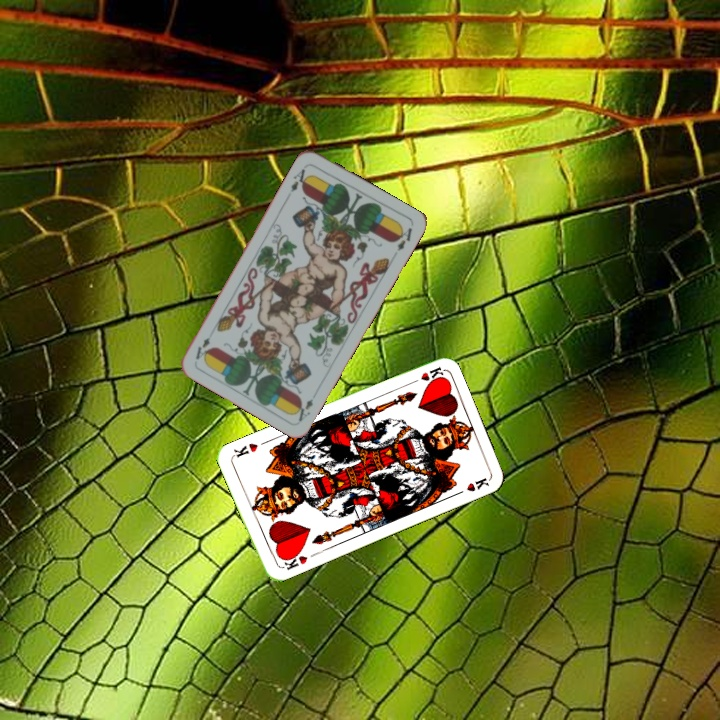EA: (286, 165, 312, 194), (291, 395, 316, 424)
HK: (405, 363, 445, 388), (278, 547, 310, 573)
